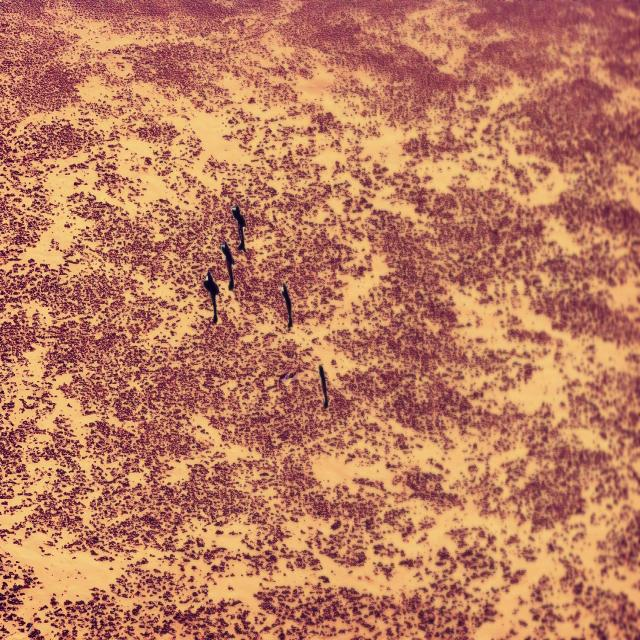airplane: (203, 268, 221, 326), (278, 280, 296, 331), (232, 204, 247, 251), (222, 240, 236, 289), (318, 366, 329, 407)
